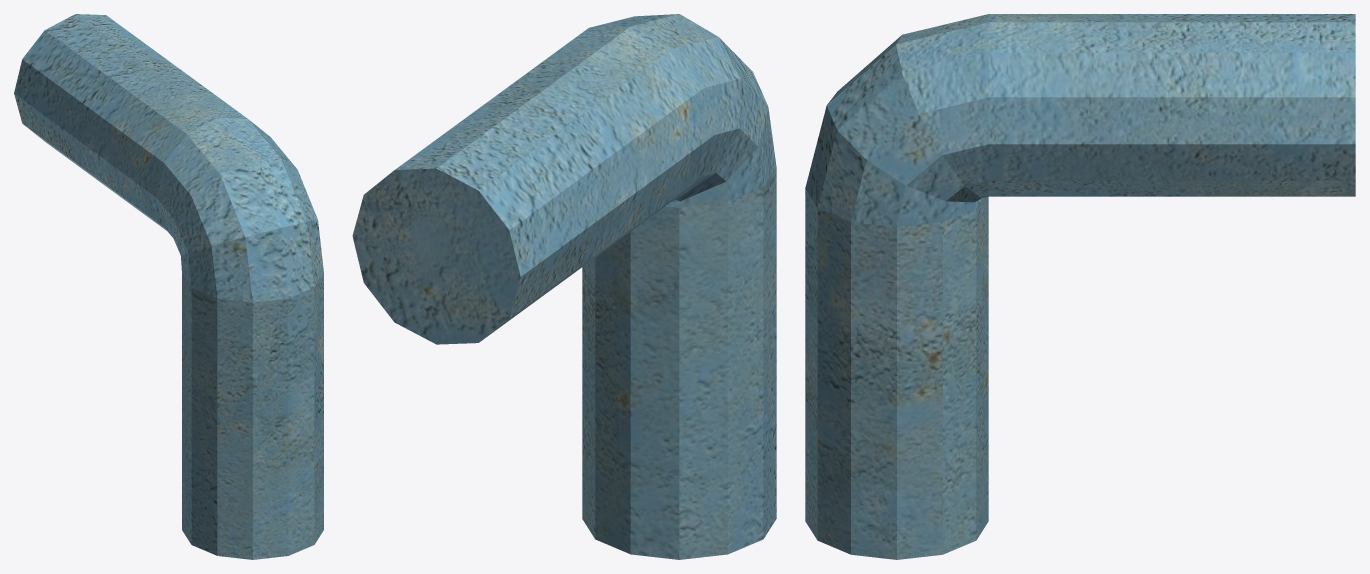
Rendered from pipe03.fbx.
3 renders of one model, left to right at view 1: azimuth 30°, elevation 25°; view 2: azimuth 150°, elevation 25°; view 3: azimuth 270°, elevation 25°, orthographic. The views are drawn at different scales.
Parts seen in each view (by area): view 1: Cylinder, Cylinder.001; view 2: Cylinder, Cylinder.001; view 3: Cylinder, Cylinder.001.
Boxes of the visible parts, x1,y1,x2,y2 form: Cylinder: (14, 14, 323, 302); Cylinder.001: (182, 273, 323, 559); Cylinder: (352, 14, 776, 344); Cylinder.001: (582, 167, 776, 559); Cylinder: (805, 14, 1355, 227); Cylinder.001: (805, 189, 988, 559).
Bounding box in the file's own units: 200 × 600 × 600.
